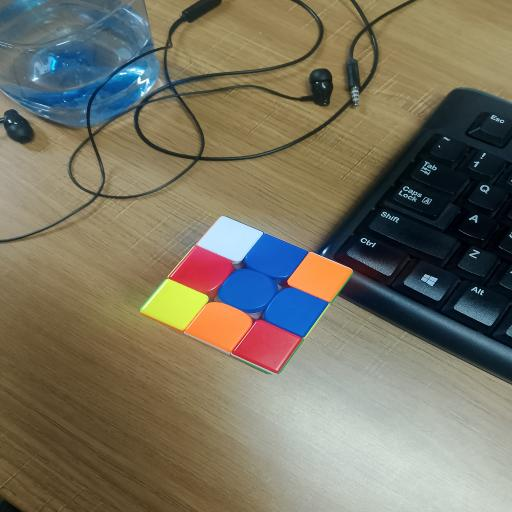cubic: (128, 207, 364, 407)
